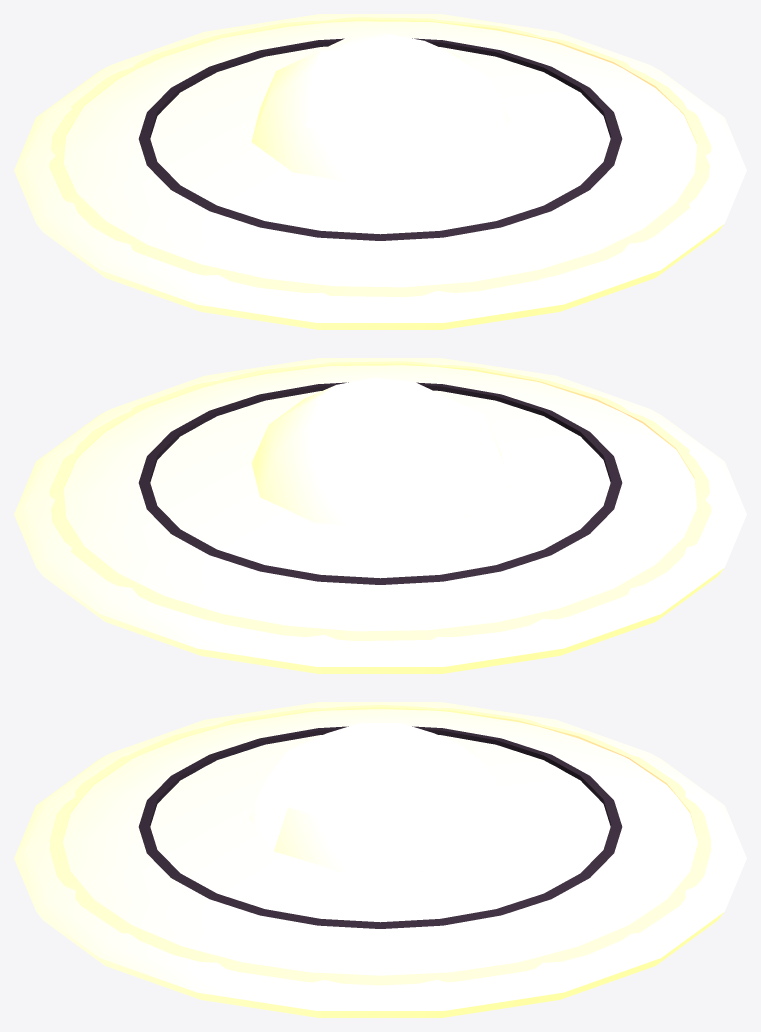
The model's file is lenticular_galaxy.glb.
3 views of the same model, one above another, from view 1: azimuth 30°, elevation 25°; view 2: azimuth 150°, elevation 25°; view 3: azimuth 270°, elevation 25° (orthographic).
Visible parts, largest first — view 1: body; view 2: body; view 3: body.
Boxes of the visible parts, x1,y1,x2,y2 form: body: (14,14,746,329); body: (14,358,746,673); body: (14,702,746,1017).
Size of the model in its own units: 197 by 50 by 200.
